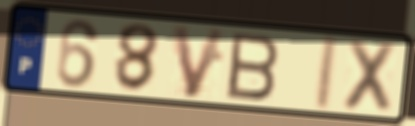6: (55, 16, 102, 90)
8: (113, 21, 161, 94)
B: (225, 31, 282, 104)
I: (310, 33, 341, 113)
V: (169, 24, 229, 101)
X: (339, 37, 400, 117)
